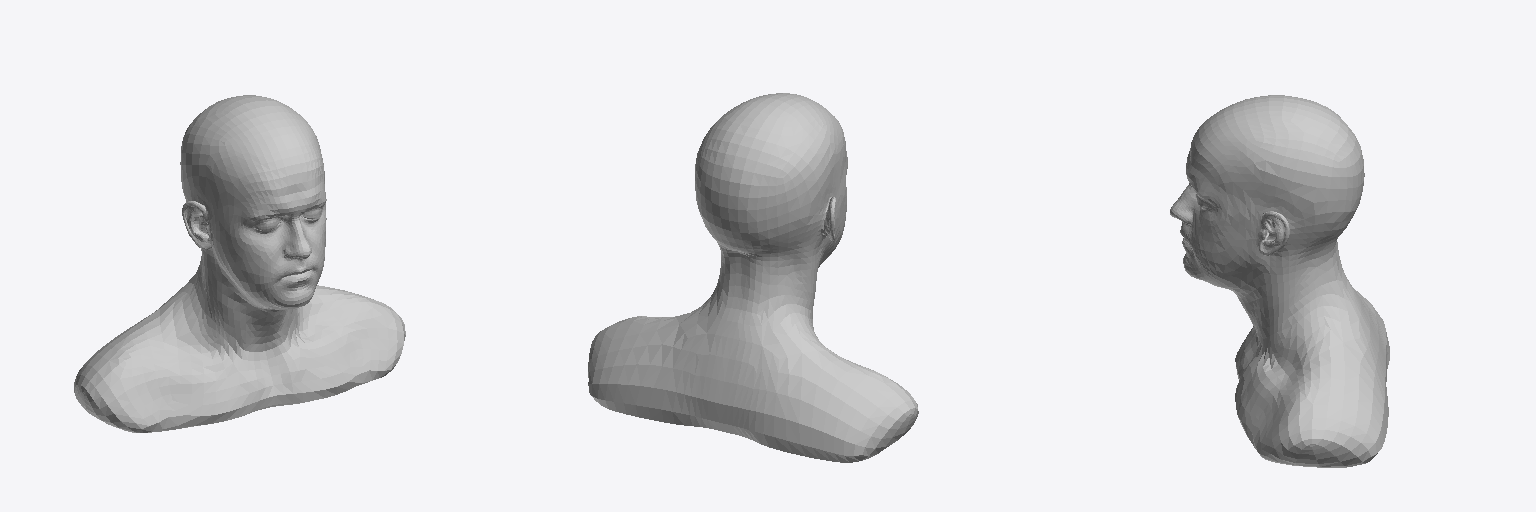
The model's file is head-new.obj.
3 renders of one model, left to right at view 1: azimuth 30°, elevation 25°; view 2: azimuth 150°, elevation 25°; view 3: azimuth 270°, elevation 25°, orthographic.
Parts seen in each view (by area): view 1: head:Group306, head:Group296, head:Group290, head:Group158, head:Group309, head:Group142, head:Group269, head:Group148, head:Group288, head:Group161, head:Group140, head:Group286 (+14 smaller); view 2: head:Group284, head:Group296, head:Group148, head:Group137, head:Group313, head:Group294, head:Group306, head:Group165, head:Group158, head:Group150, head:Group298, head:Group269 (+9 smaller); view 3: head:Group148, head:Group137, head:Group158, head:Group146, head:Group161, head:Group2, head:Group132, head:Group142, head:Group165, head:Group139, head:Group124, head:Group14 (+13 smaller).
Part boxes in pixels (x1,y1,x2,y2): head:Group306: (190,273,275,423); head:Group296: (76,269,200,379); head:Group290: (101,307,237,425); head:Group158: (265,306,336,399); head:Group309: (226,150,302,241); head:Group142: (297,307,403,394); head:Group269: (196,108,286,282); head:Group148: (303,285,373,334); head:Group288: (115,392,189,432); head:Group161: (287,144,326,239); head:Group140: (350,338,403,382); head:Group286: (109,358,191,390); head:Group284: (728,100,820,247); head:Group296: (759,295,904,455); head:Group148: (588,279,718,401); head:Group137: (695,98,776,237); head:Group313: (734,238,803,340); head:Group294: (761,295,914,401); head:Group306: (720,263,819,425); head:Group165: (707,226,745,338); head:Group158: (700,308,732,422); head:Group150: (662,336,710,418); head:Group298: (733,348,776,436); head:Group269: (777,94,829,298); head:Group148: (1271,286,1385,456); head:Group137: (1269,101,1364,235); head:Group158: (1229,273,1386,414); head:Group146: (1288,280,1375,435); head:Group161: (1178,122,1233,225); head:Group2: (1210,101,1309,299); head:Group132: (1235,141,1300,191); head:Group142: (1238,322,1297,447); head:Group165: (1300,217,1360,308); head:Group139: (1296,432,1370,466); head:Group124: (1263,248,1305,295); head:Group14: (1192,238,1262,279).
Bounding box in the file's own units: 0.4533 × 0.4211 × 0.2746.